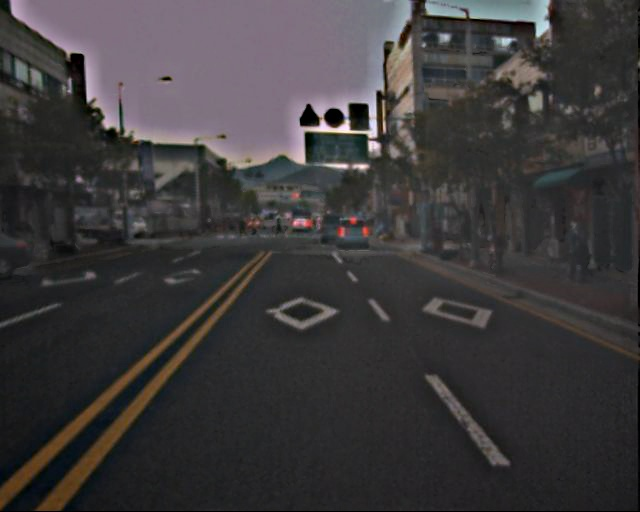person: (561, 213, 594, 285)
